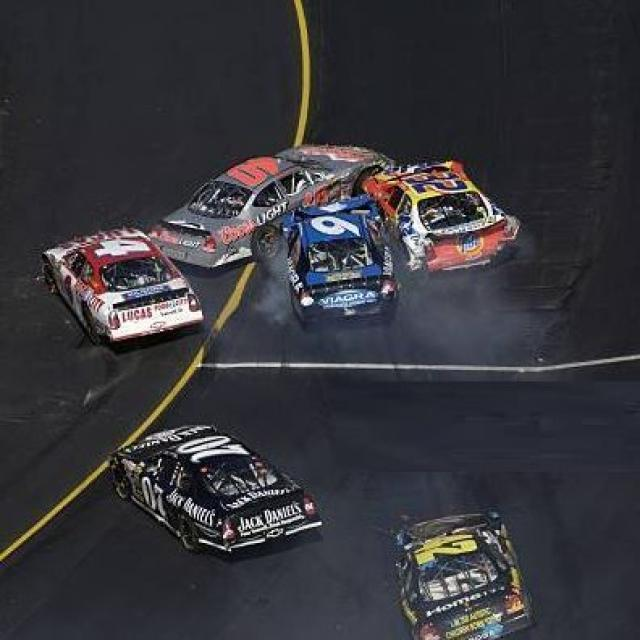traffic_incident: (42, 97, 524, 367)
